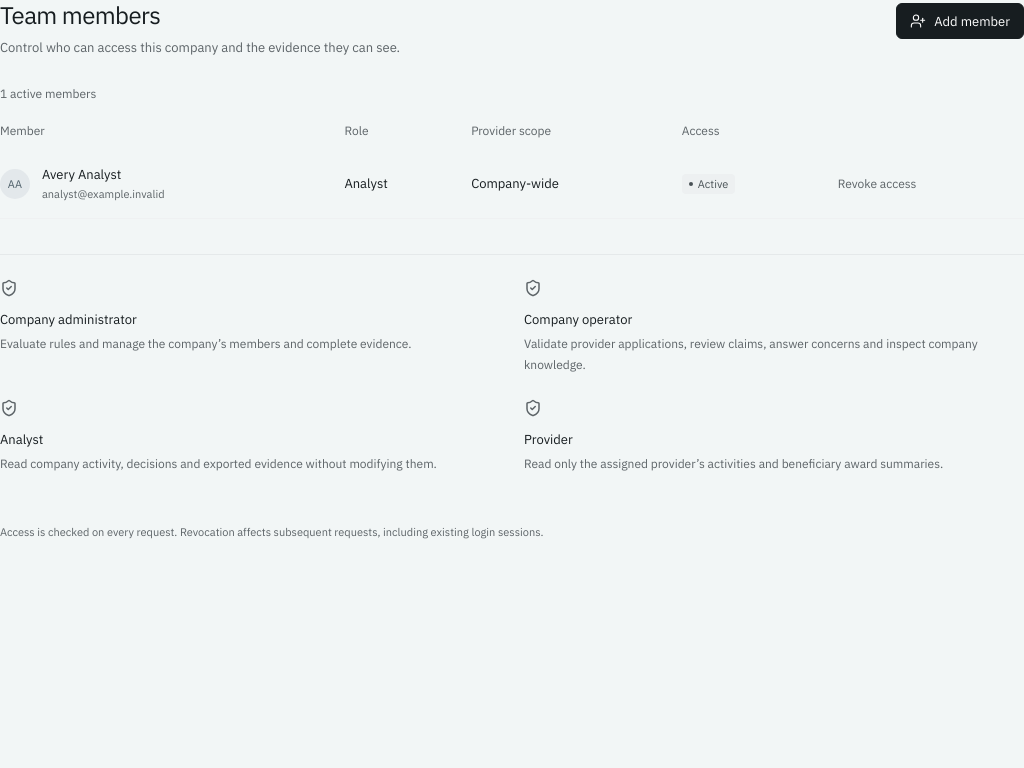
Test: operations components › requires a named confirmation before revoking access
This screenshot has width=1024, height=768.
Click the button "Revoke access" at (877, 184), box [828,169,926,199]
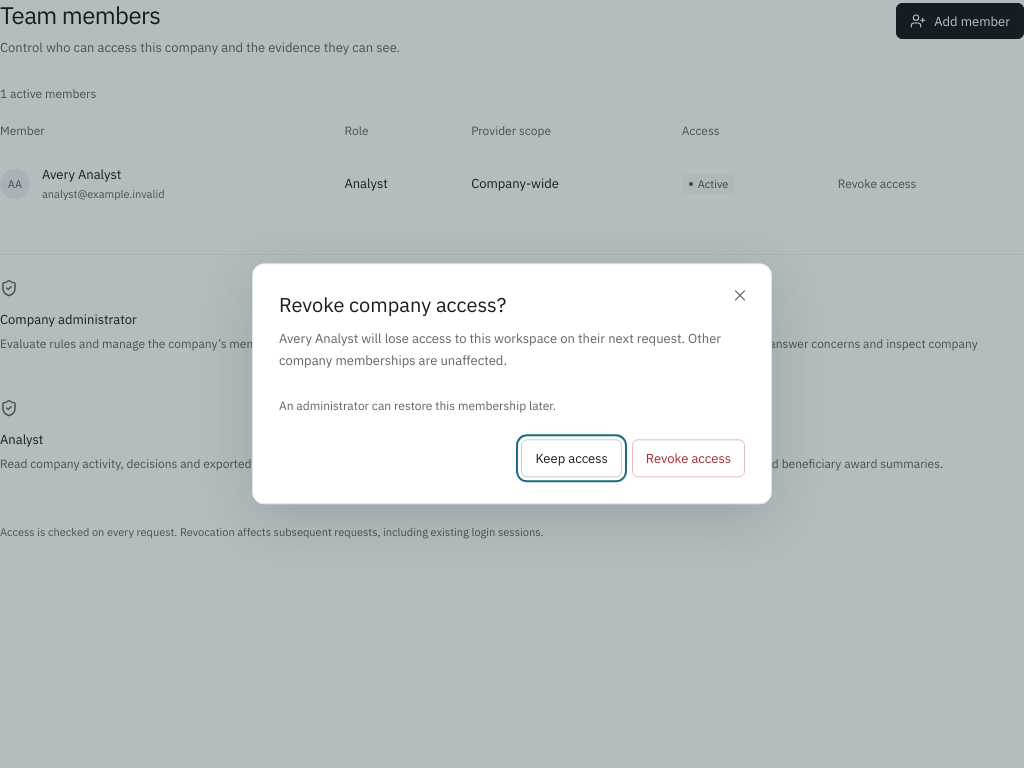
Now the dialog "Revoke company access?" is shown, box [252,263,772,505]
Now the text "Avery Analyst will lose access" is shown, box [279,330,721,369]
